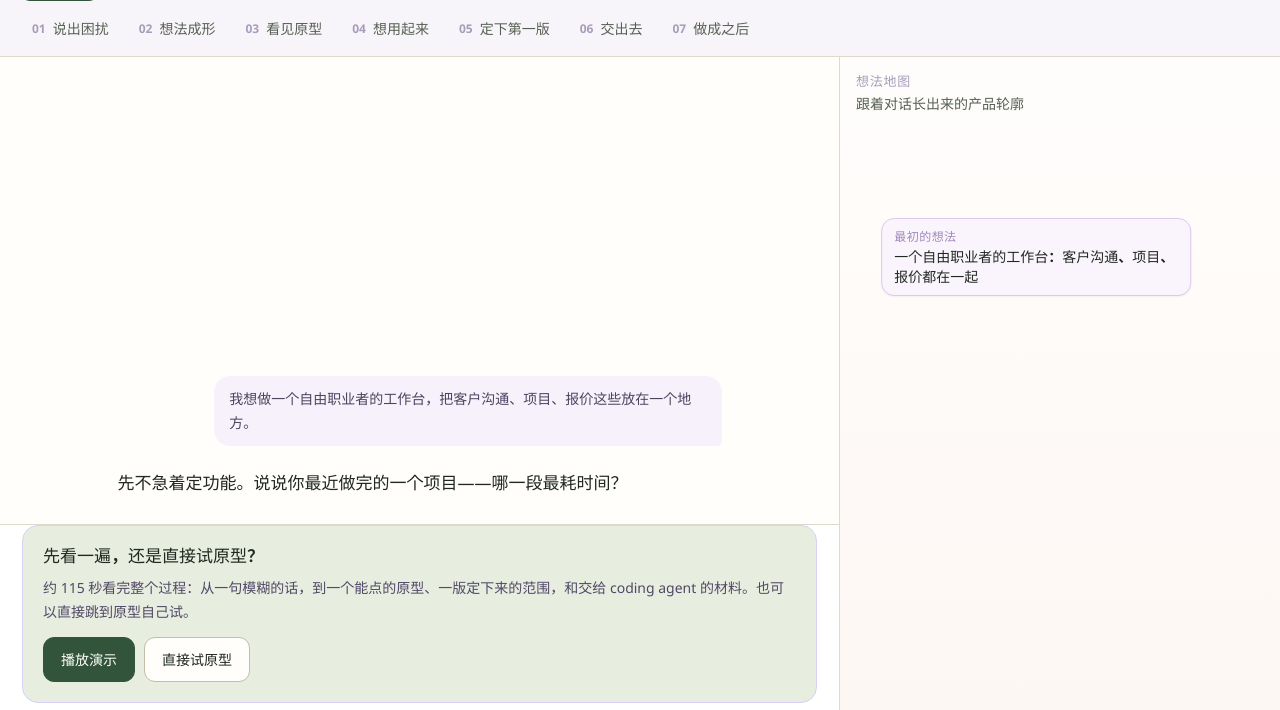
Test: watching › replays from the first scene with an empty field
The image size is (1280, 710).
(page scrolled)
Click the button "播放演示" at (89,660), box [43, 637, 135, 682]
Wait 840000 ms
(page scrolled)
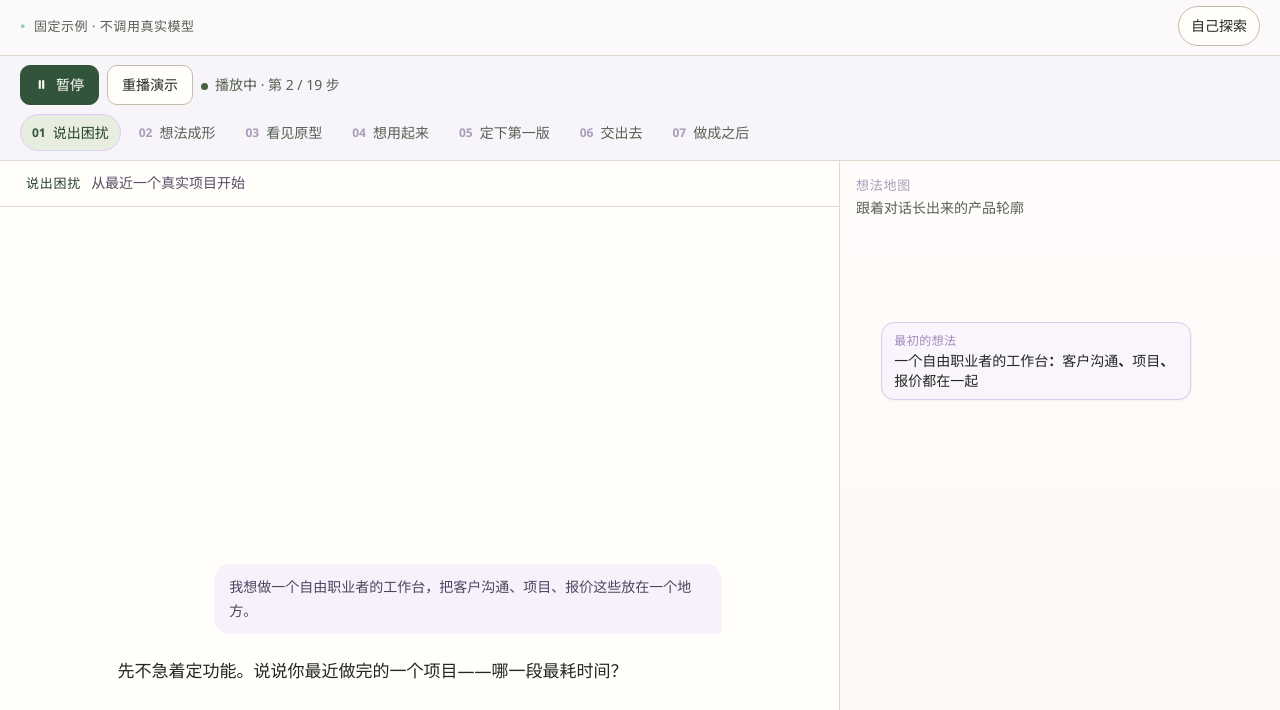
Click the button with class "transport-step" at (150,85), box [107, 65, 193, 105]
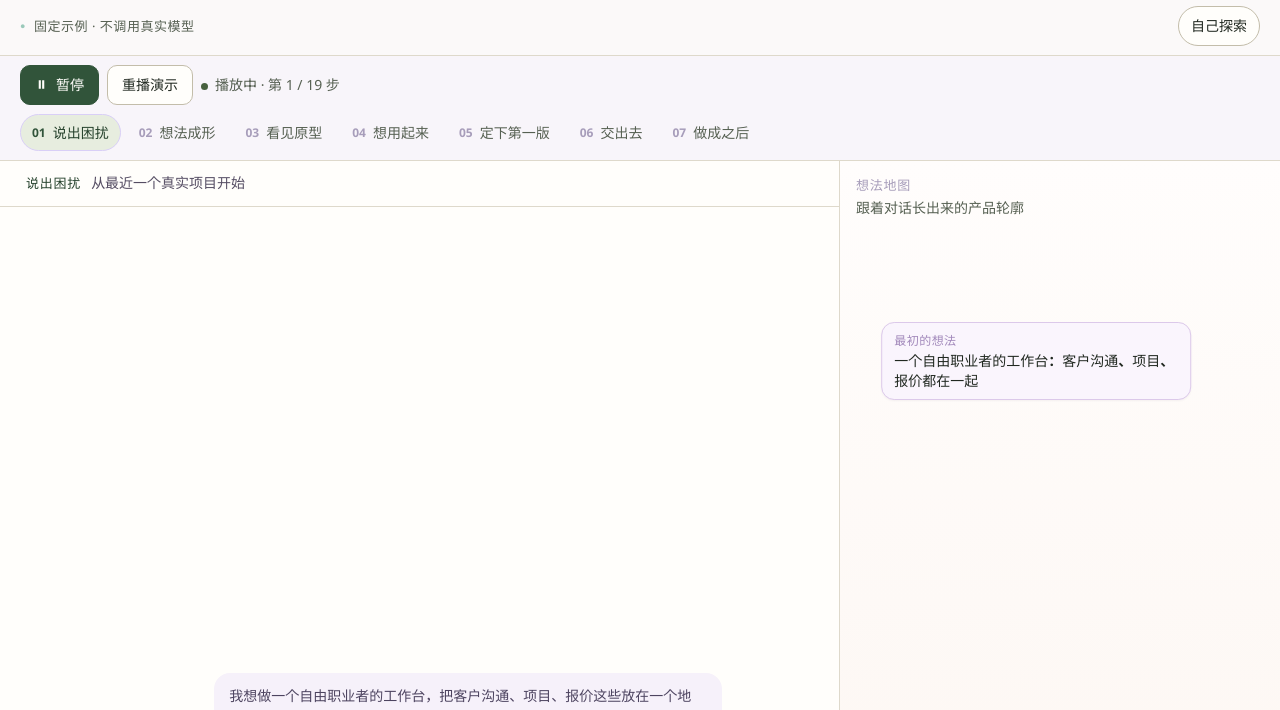
Check: the text with class "transport-status" shows "第 1 /", box [215, 75, 340, 94]
